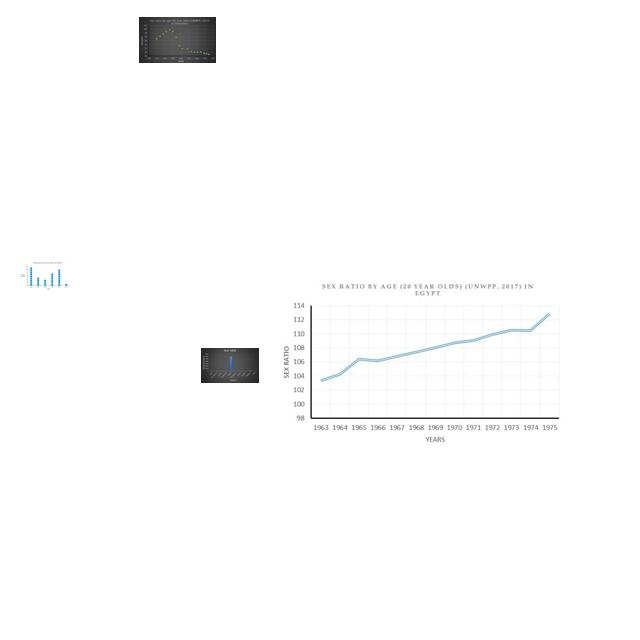Graph: (274, 278, 565, 448), (139, 17, 216, 63), (201, 348, 259, 383), (19, 261, 71, 291)
